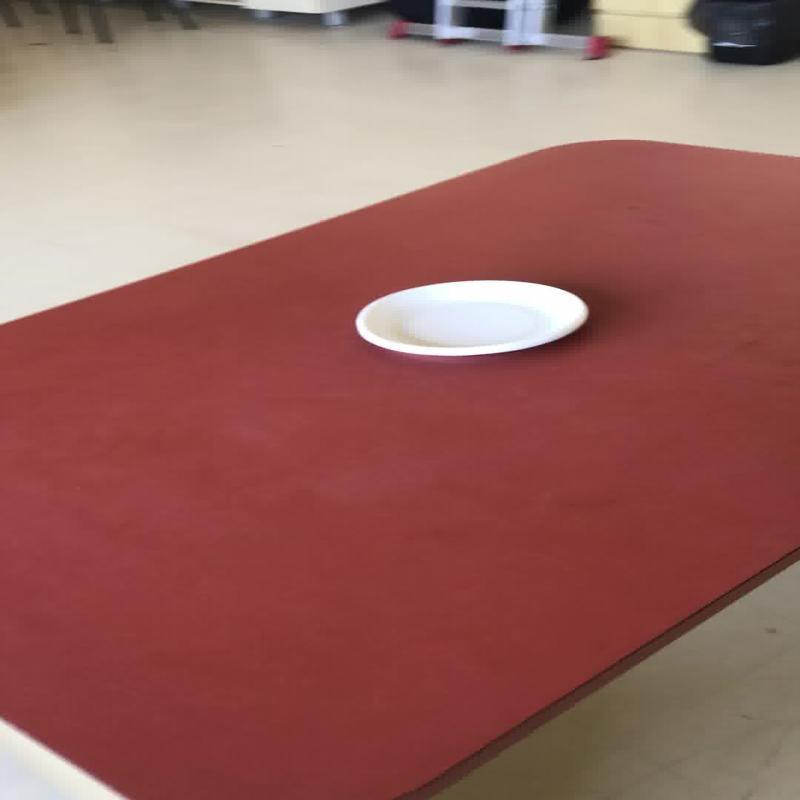plate: (353, 278, 588, 356)
